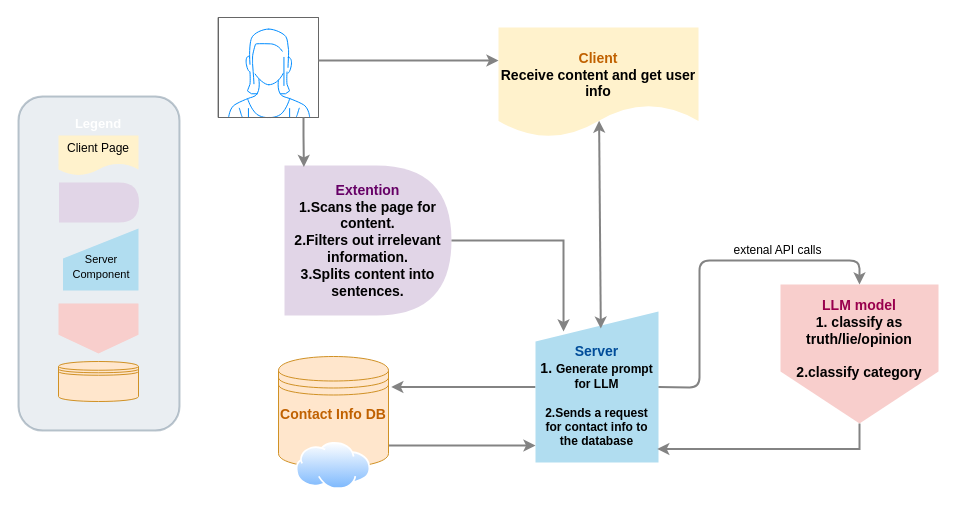
This 955x507 diagram has some shape labels left out. The box of each missing label's shape, as (x1, y1, x2, y2) in pixels:
Data base: (58, 360, 138, 402)
Extention: (58, 182, 138, 222)
External Service: (58, 303, 138, 353)
